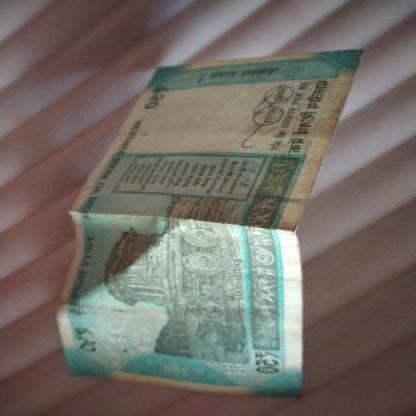New50Back: (61, 53, 360, 378)
